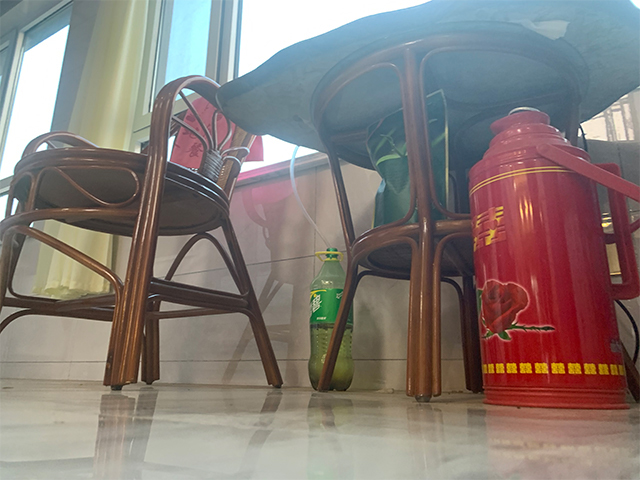stool: (1, 74, 287, 390)
table: (214, 1, 640, 403)
